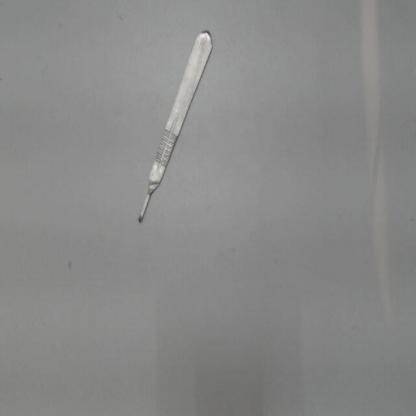No.3 BP Handle: (128, 22, 222, 230)
